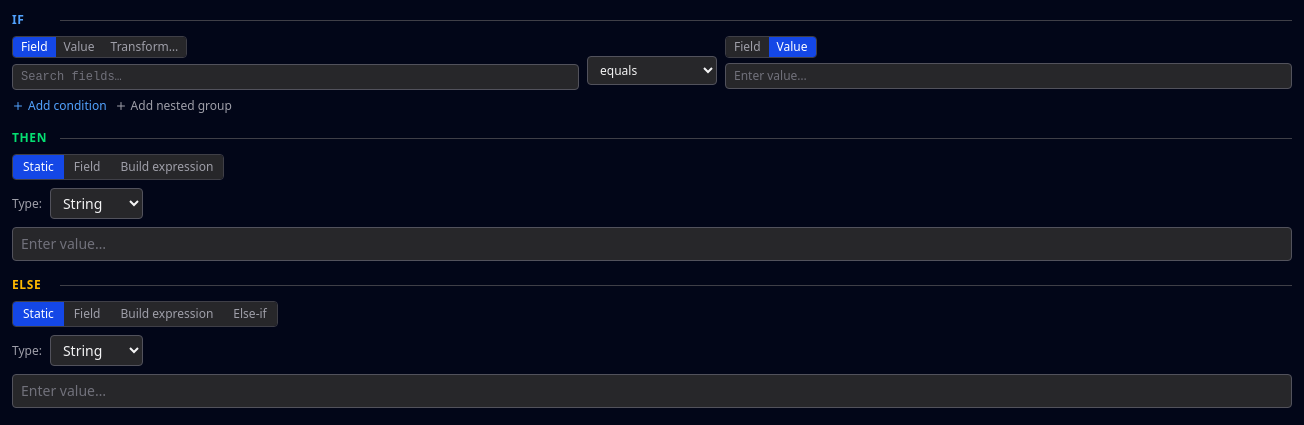
Test case: ConditionalModeBuilder — operators › isTruthy operator hides right operand
The width and height of the screenshot is (1304, 425).
Step 1. Select "is true" in the dropdown with test id "condition-operator-0" → (652,70), box [587, 56, 717, 85]
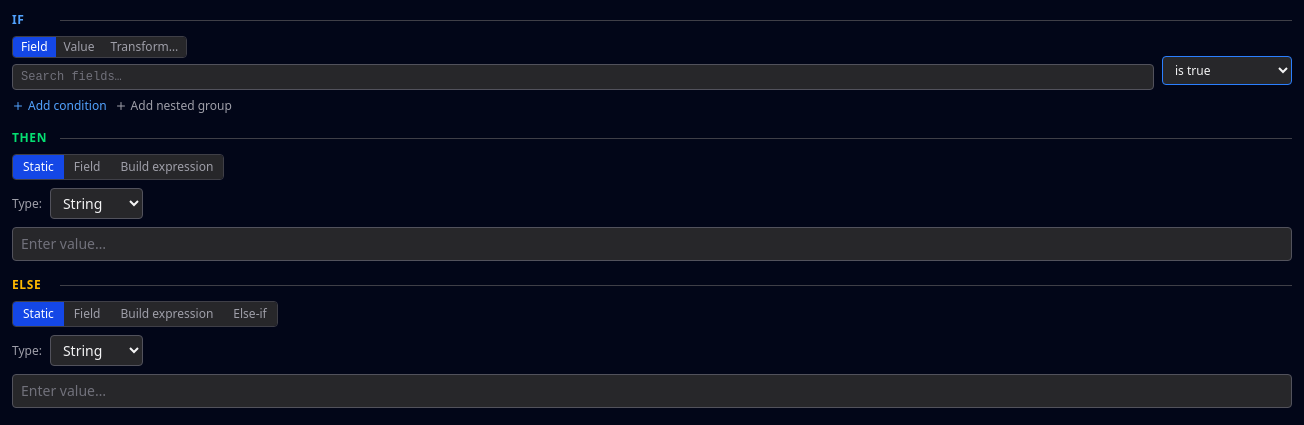
Now the element with test id "condition-right-0" is gone
